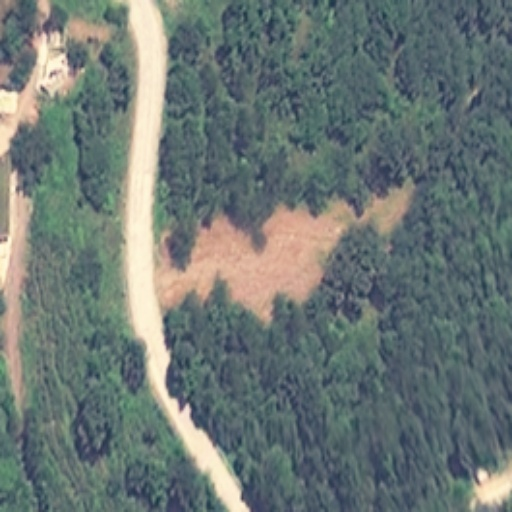landslide: (148, 180, 415, 318)
